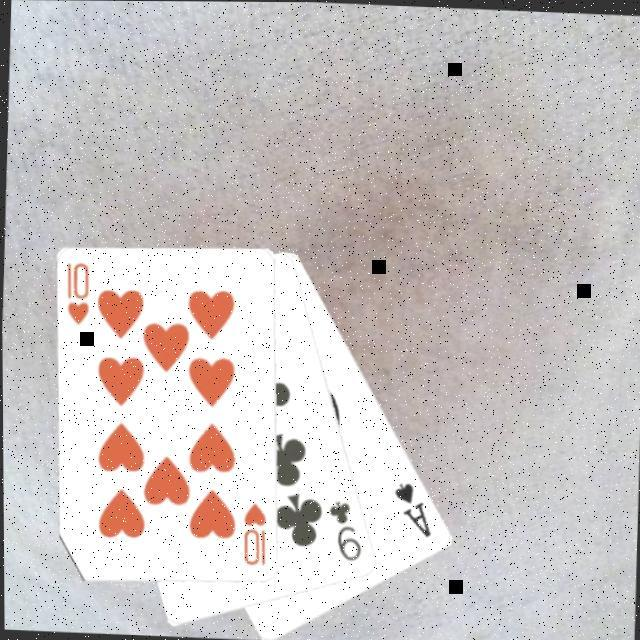10H: (62, 260, 96, 330), (240, 500, 272, 570)
9C: (324, 497, 368, 566)
AS: (390, 480, 438, 542)
